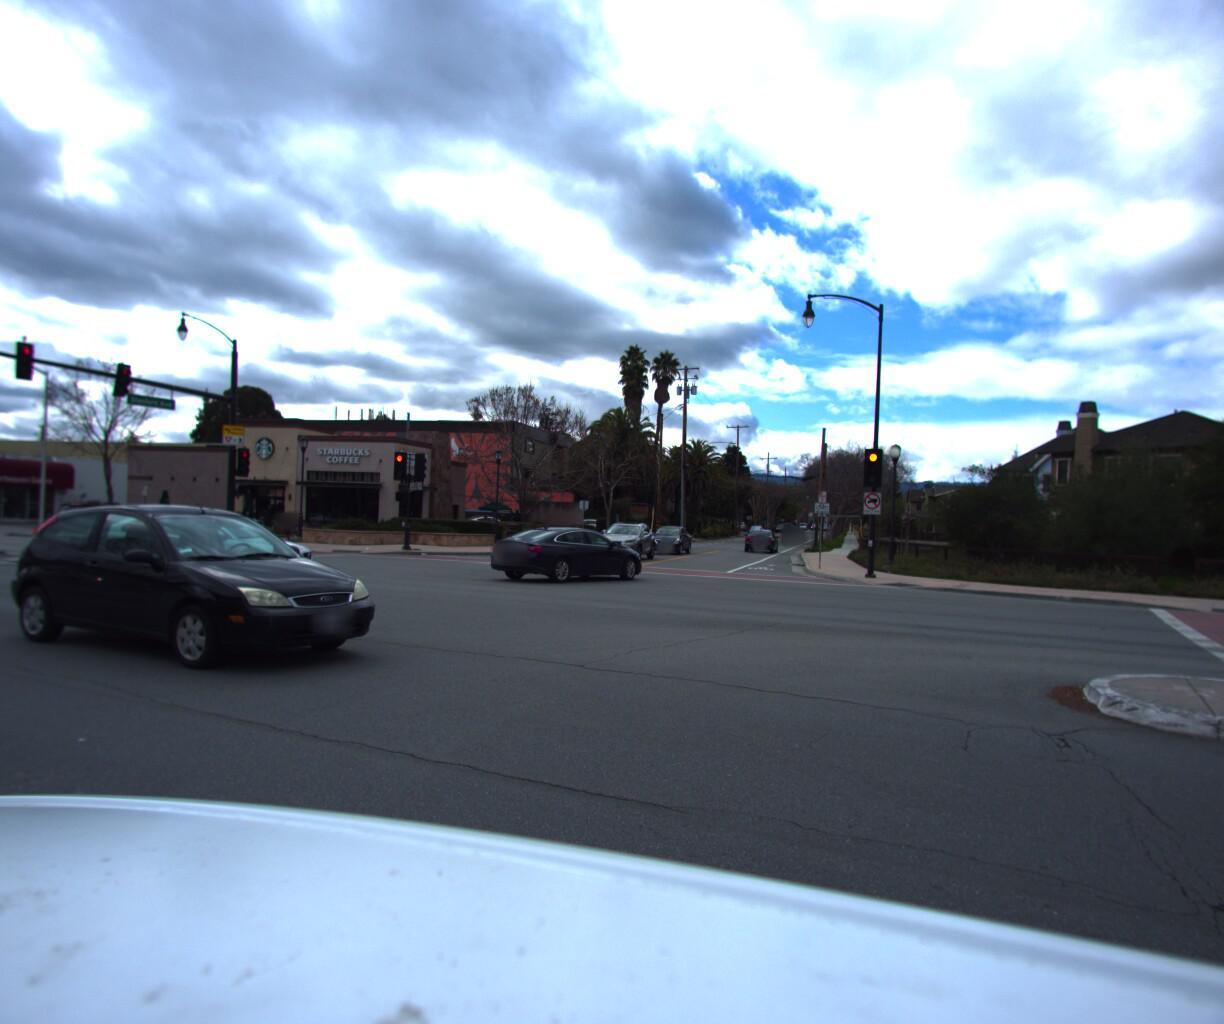car: (0, 487, 401, 683), (69, 500, 319, 584), (480, 519, 644, 583), (588, 515, 659, 557), (51, 494, 134, 523), (646, 518, 692, 549), (744, 521, 783, 547), (781, 519, 803, 536)
